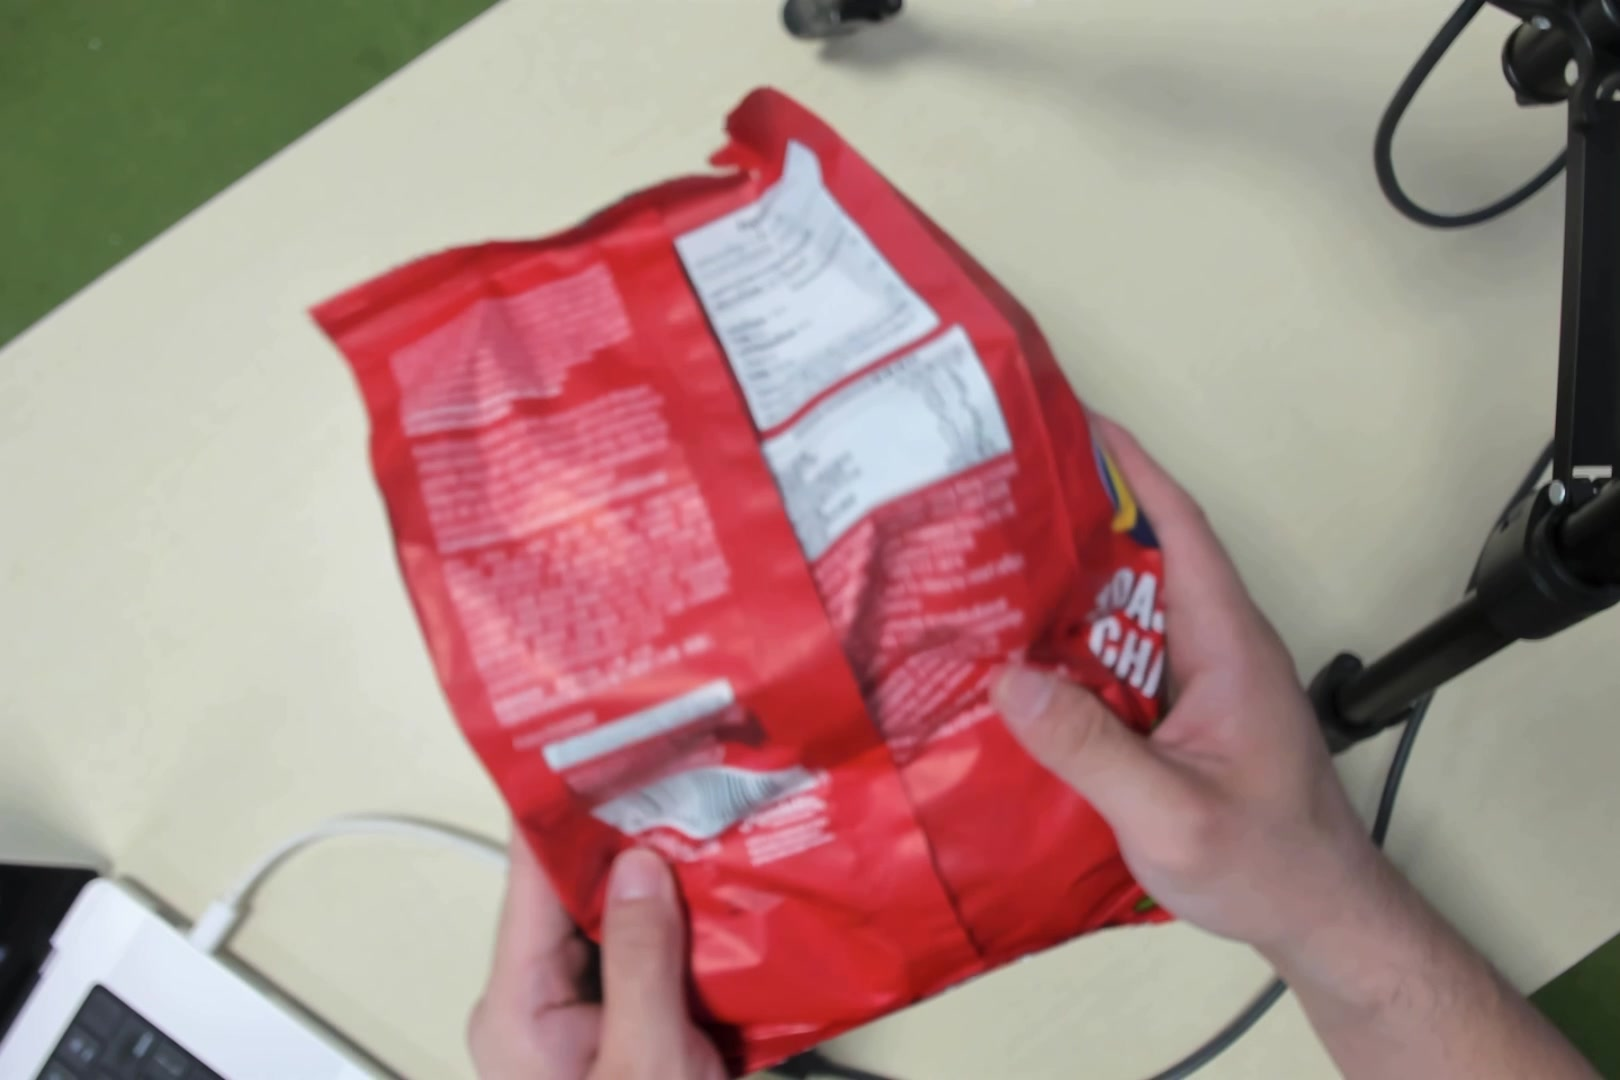BiscuitsCrackersCookies_200-299g_NonHalal_NonHealthy: (413, 176, 1161, 965)
